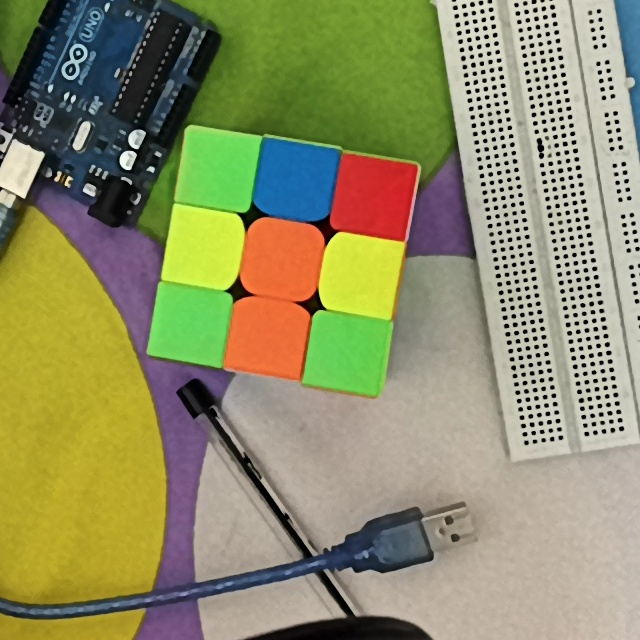tile: (263, 149, 328, 212), (314, 318, 377, 383), (342, 164, 405, 226), (251, 229, 313, 291), (185, 140, 248, 201), (332, 240, 392, 303), (159, 291, 219, 354), (239, 308, 299, 368), (174, 218, 232, 279)
